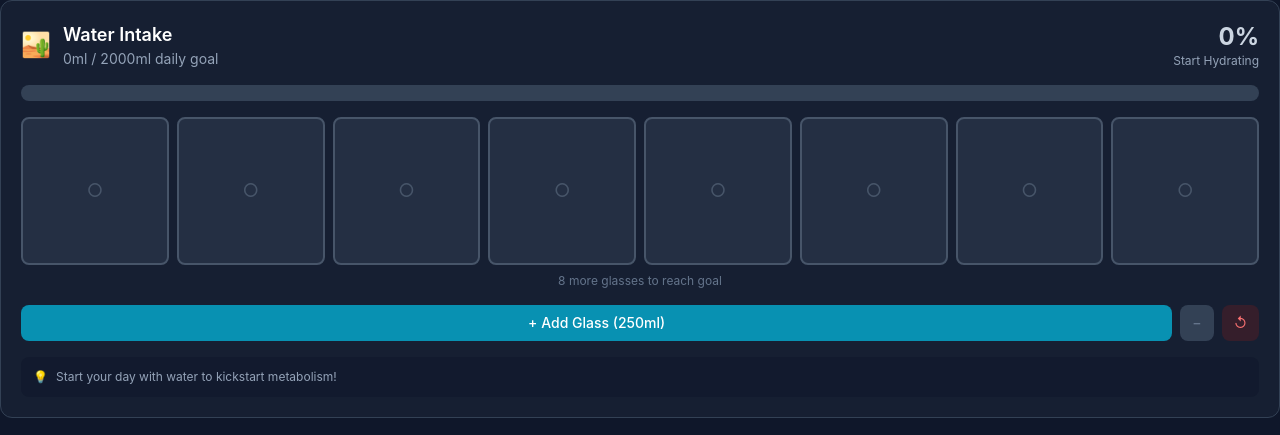
Scenario: WaterTracker Component › Adding Water › should increment water count when adding a glass
# Use the main Add Glass button in the action buttons section
Click the button "+ Add Glass (250ml)" at (597, 323), box [21, 305, 1172, 341]
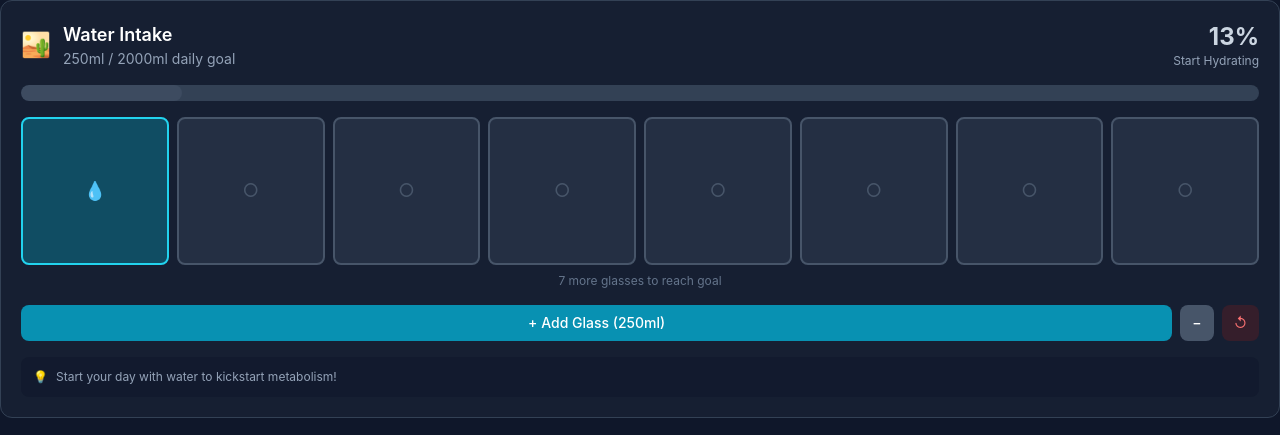
Expected: the text "250ml / 2000ml daily goal" is shown, [63, 49, 235, 69]
Expected: the text "13%" is shown, [1209, 22, 1259, 51]
